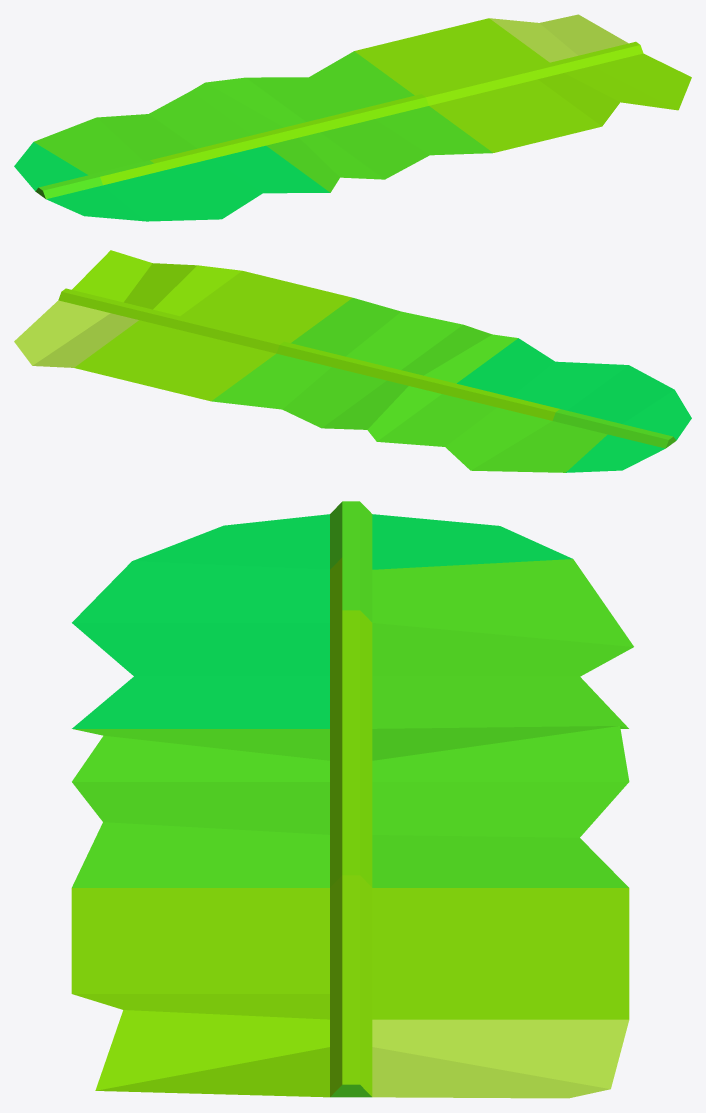
The model's file is DaunPisang 1.fbx.
The picture shows the model from 3 angles, top to bottom: view 1: azimuth 30°, elevation 25°; view 2: azimuth 150°, elevation 25°; view 3: azimuth 270°, elevation 25°; orthographic projection. The views are drawn at different scales.
Visible parts, largest first — view 1: Plane; view 2: Plane; view 3: Plane.
Part boxes in pixels (x1,y1,x2,y2): Plane: (14,14,691,221); Plane: (14,250,691,472); Plane: (71,501,633,1098).
Size of the model in its own units: 49790 by 1632 by 20177.
